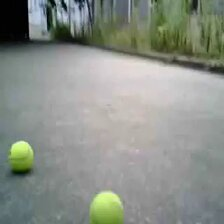tennis: (88, 191, 123, 224), (8, 142, 33, 169)
